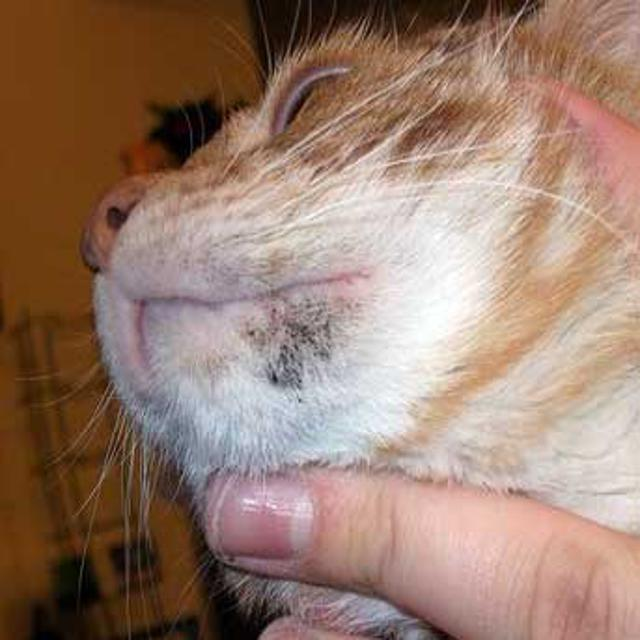acne: (245, 297, 340, 395)
